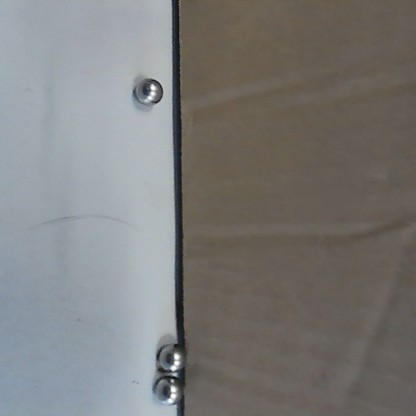ironball: (148, 374, 184, 408), (131, 75, 164, 108), (156, 339, 186, 373)
